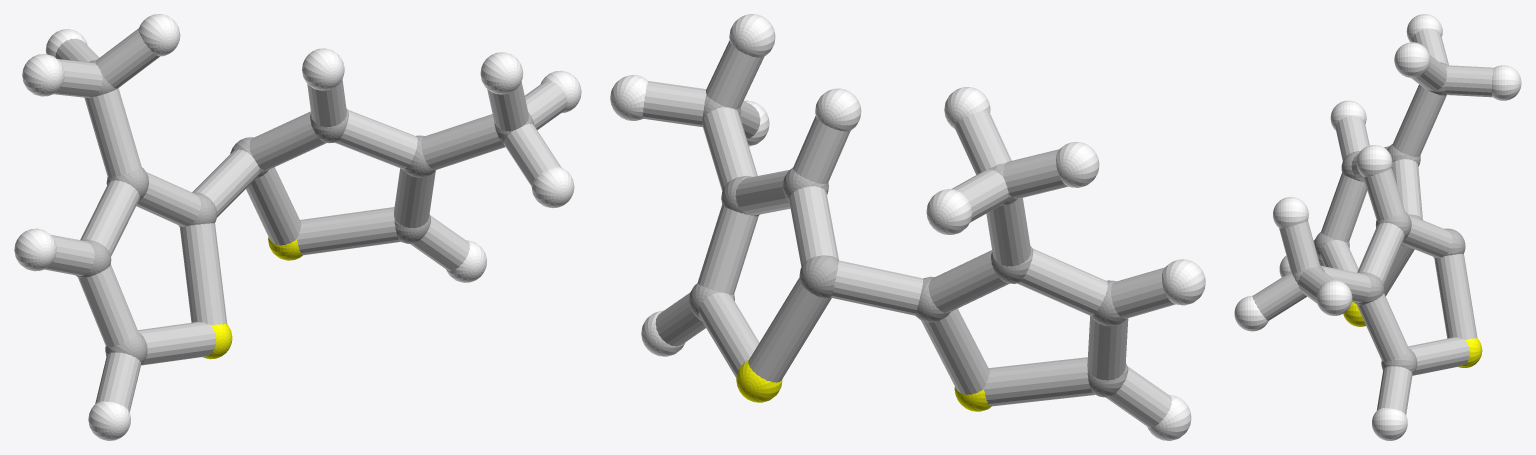
Rendered from Methylthiophene_Phi_60_Theta_230_Methylthiophene.glb.
3 renders of one model, left to right at view 1: azimuth 30°, elevation 25°; view 2: azimuth 150°, elevation 25°; view 3: azimuth 270°, elevation 25°, orthographic. The views are drawn at different scales.
Visible parts, largest first — view 1: grp7965, grp3621, grp1, grp7241; view 2: grp7965, grp3621, grp1, grp7241; view 3: grp7965, grp3621, grp1, grp7241.
Boxes of the visible parts, x1,y1,x2,y2 form: grp7965: [44, 28, 567, 411]; grp3621: [14, 14, 581, 440]; grp1: [76, 60, 534, 364]; grp7241: [202, 237, 302, 359]; grp7965: [642, 40, 1175, 427]; grp3621: [610, 14, 1205, 440]; grp1: [689, 94, 1128, 397]; grp7241: [736, 360, 991, 411]; grp7965: [1252, 28, 1493, 414]; grp3621: [1234, 14, 1521, 440]; grp1: [1292, 62, 1465, 374]; grp7241: [1343, 302, 1482, 367].
Bounding box in the file's own units: 8.96 × 5.34 × 4.79.
